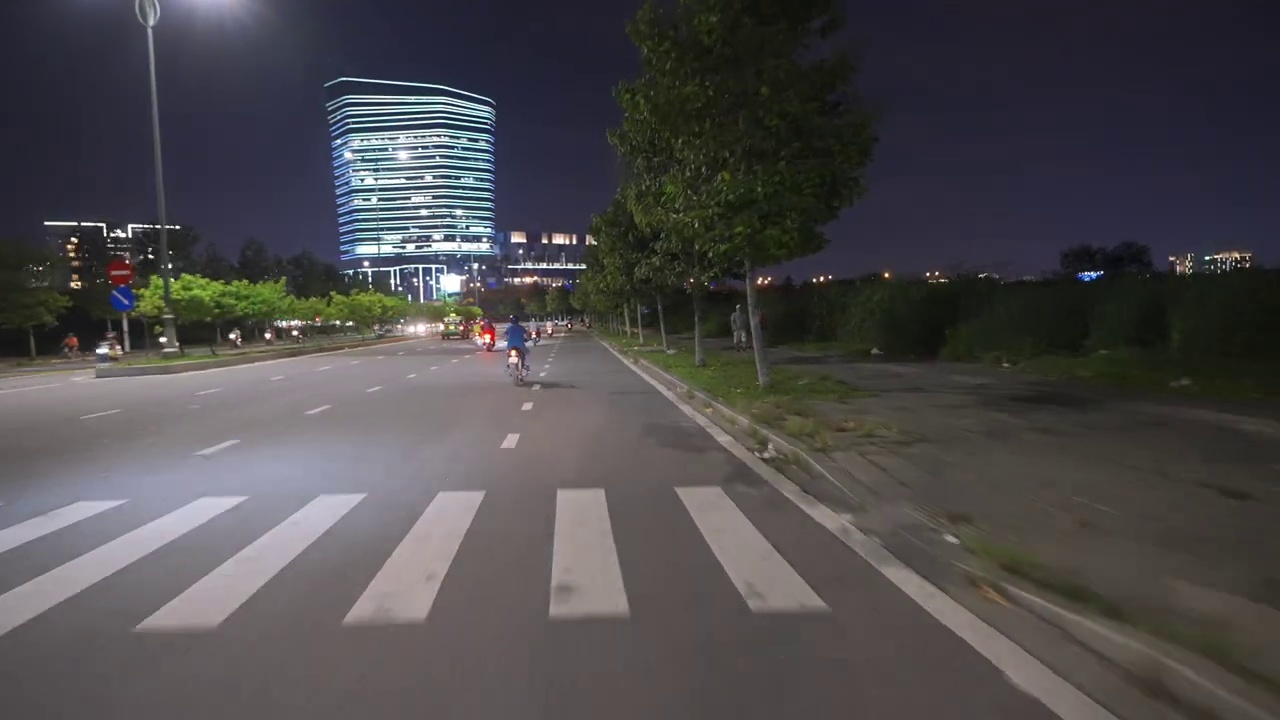cam_nguoc_chieu: (107, 259, 133, 285)
huong_phai_di_vong: (109, 288, 135, 310)
